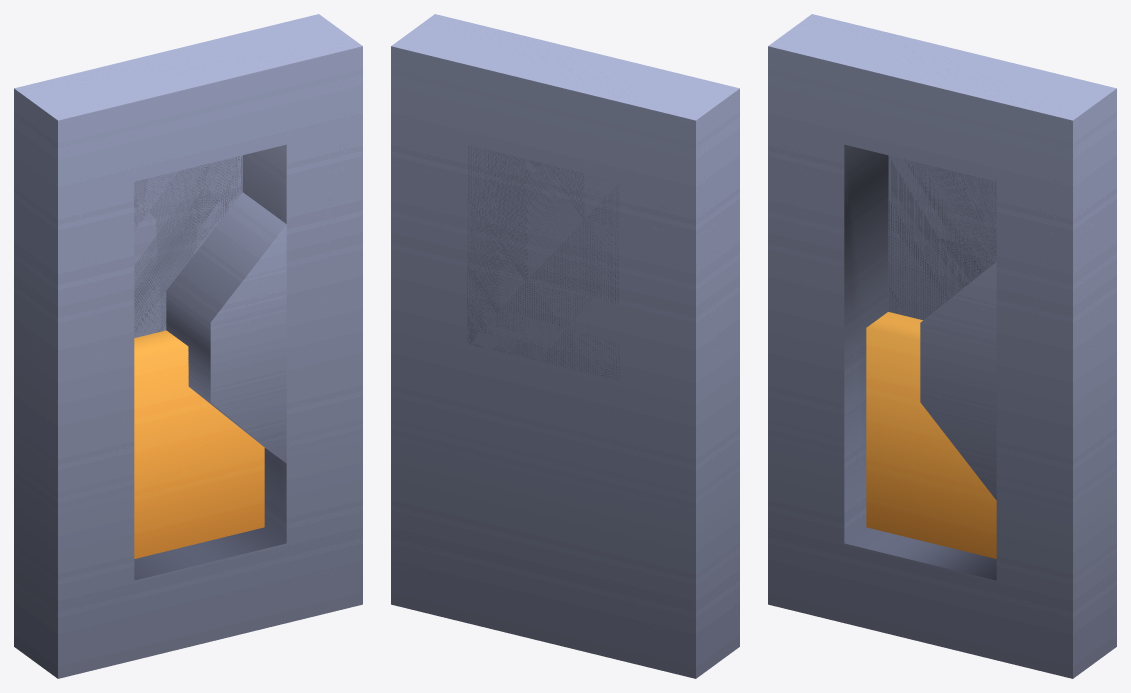
Rendered from door-single-closed.glb.
The picture shows the model from 3 angles, left to right: view 1: azimuth 30°, elevation 25°; view 2: azimuth 150°, elevation 25°; view 3: azimuth 330°, elevation 25°; orthographic projection.
Parts seen in each view (by area): view 1: door-single-closed, Group; view 2: door-single-closed; view 3: door-single-closed, Group.
Part boxes in pixels (x1,y1,x2,y2): door-single-closed: (14,14,362,678); Group: (166,192,286,463); door-single-closed: (391,14,739,678); door-single-closed: (768,14,1116,678); Group: (920,262,996,500).
Bounding box in the file's own units: 0.4 × 0.7 × 0.1.
Materials: 1 (1 with a texture image).
